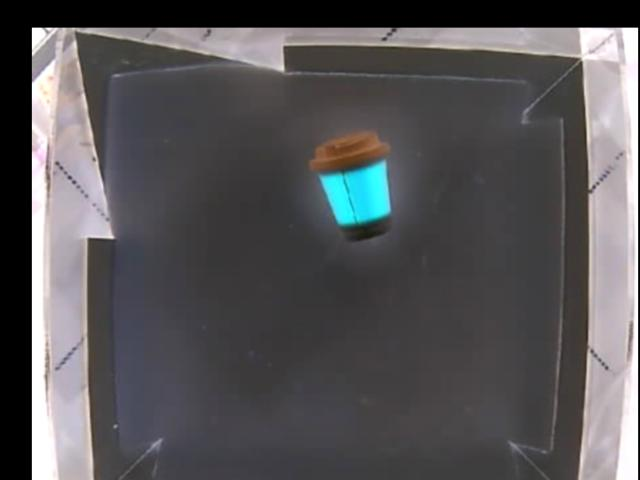Cup: (309, 133, 392, 243)
